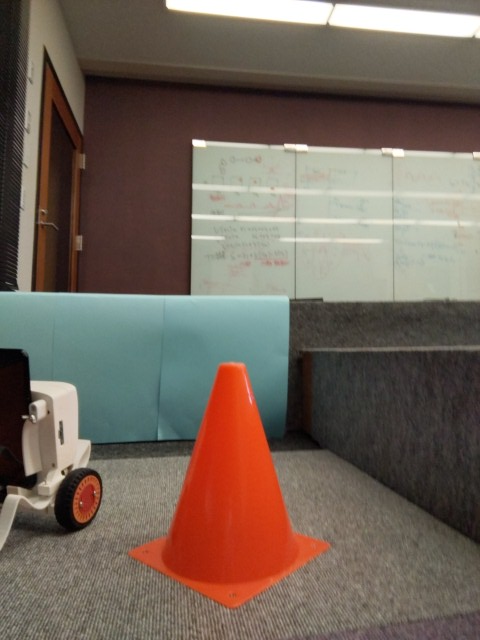bl: (1, 348, 107, 556)
